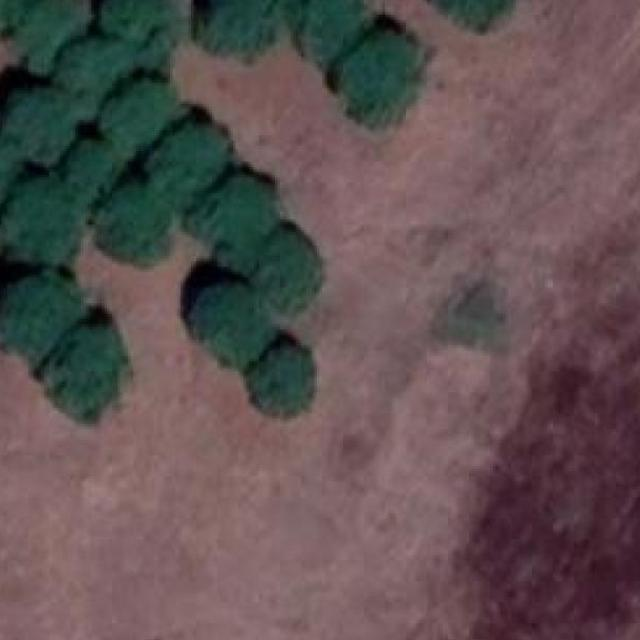Tree: (341, 36, 418, 125), (201, 180, 278, 268), (2, 270, 74, 356), (49, 328, 118, 417), (152, 128, 226, 201), (196, 287, 268, 361), (16, 0, 89, 67), (102, 191, 164, 264), (6, 196, 74, 259), (107, 83, 175, 144), (262, 232, 320, 303), (8, 94, 74, 156), (205, 0, 278, 55), (105, 0, 178, 55), (62, 44, 133, 100), (257, 345, 313, 411), (304, 0, 367, 51), (70, 143, 121, 193), (435, 0, 512, 23), (0, 141, 18, 196)
